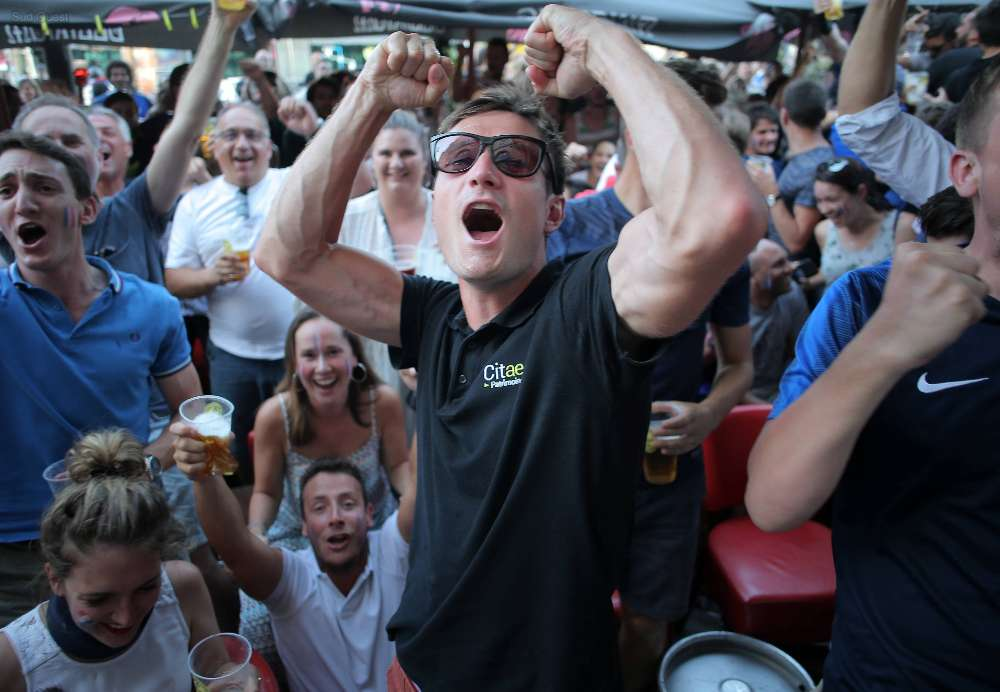without_mask: (441, 129, 539, 270), (1, 157, 82, 262), (73, 562, 156, 644), (305, 482, 365, 556), (216, 114, 266, 179), (373, 141, 422, 193), (813, 182, 854, 228)
